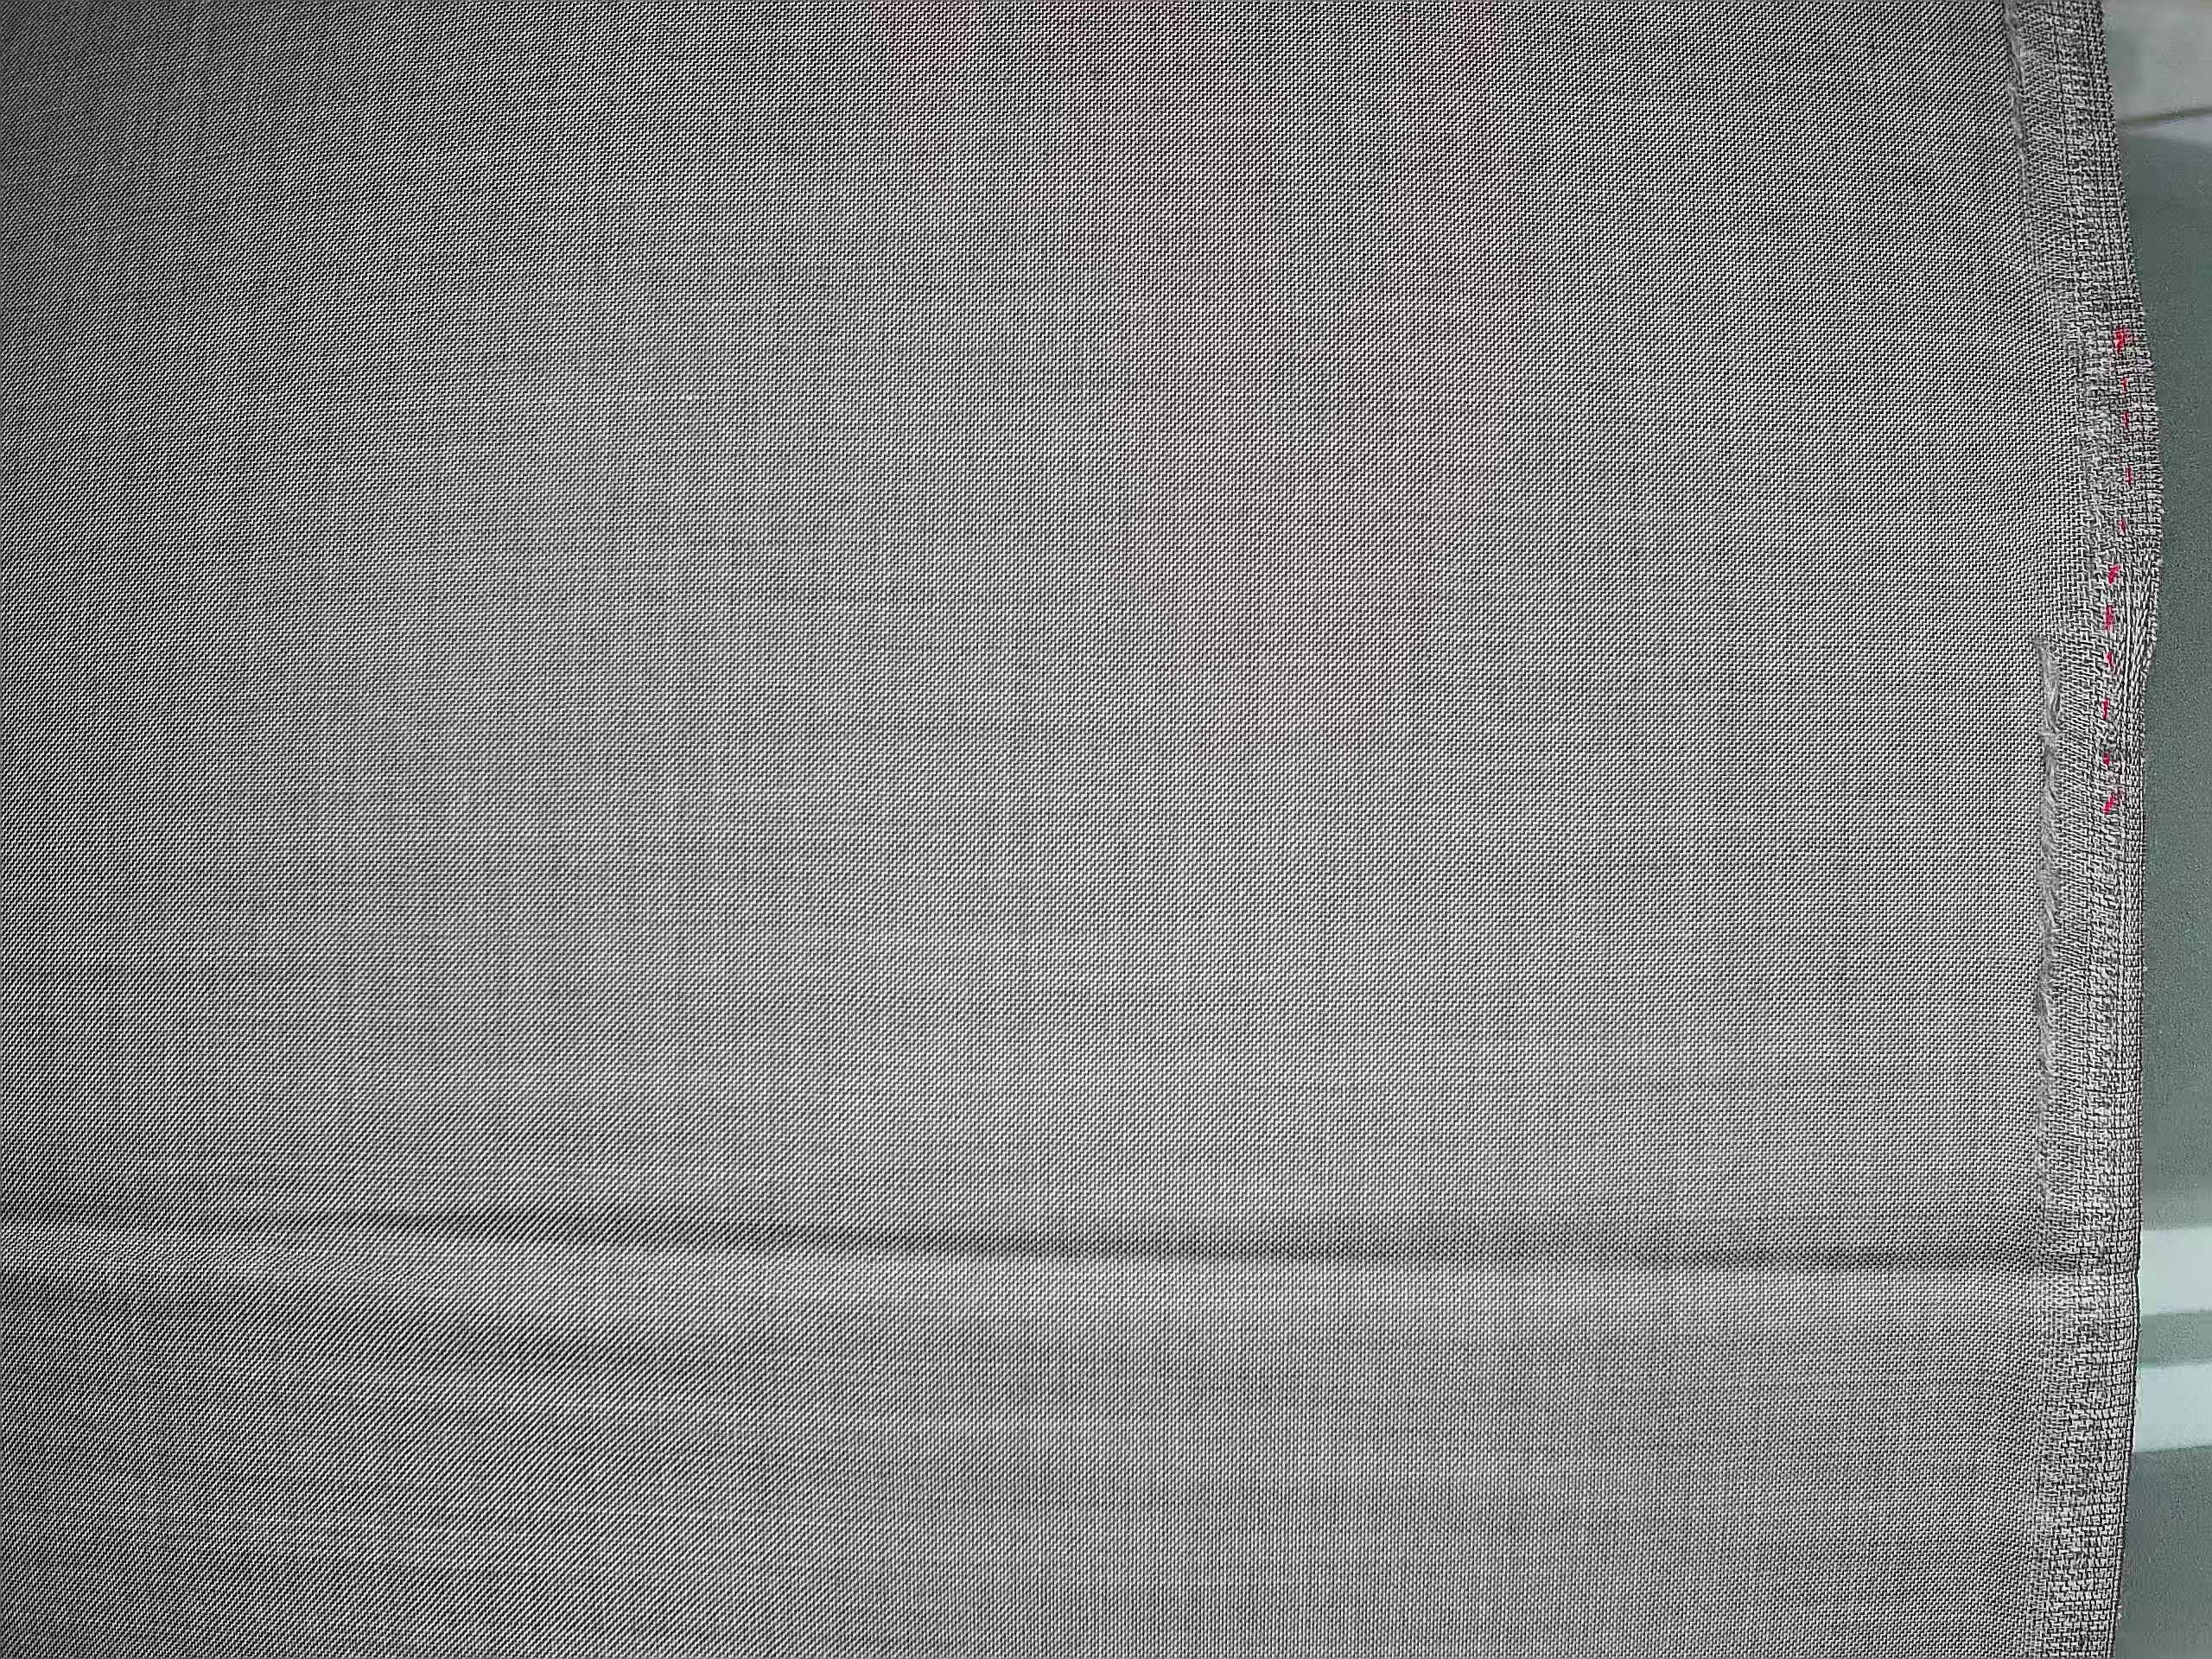others: (2010, 599, 2088, 1225)
